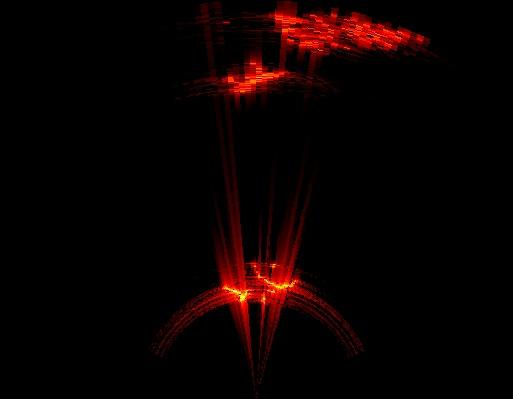shipwreck: (272, 11, 414, 47), (229, 257, 298, 307), (225, 63, 283, 92)
